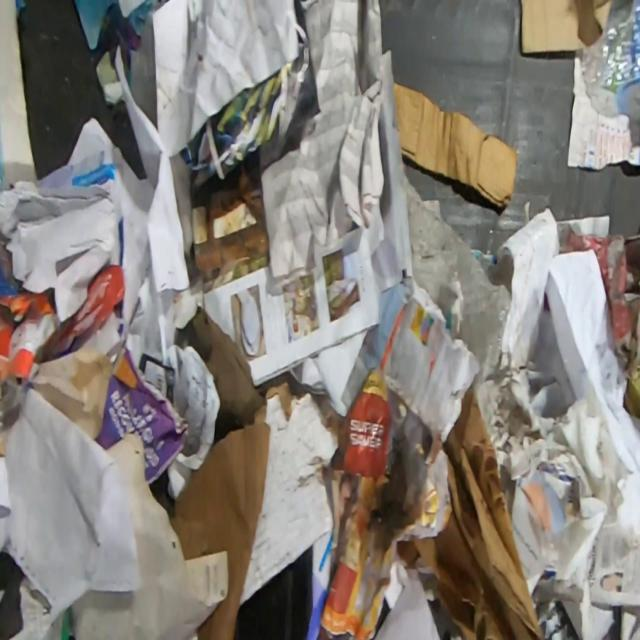cardboard: (240, 380, 344, 608), (392, 79, 519, 211), (378, 284, 478, 444), (518, 0, 614, 55)
rigid_plastic: (578, 0, 640, 102)
soft_plastic: (401, 164, 514, 385)
